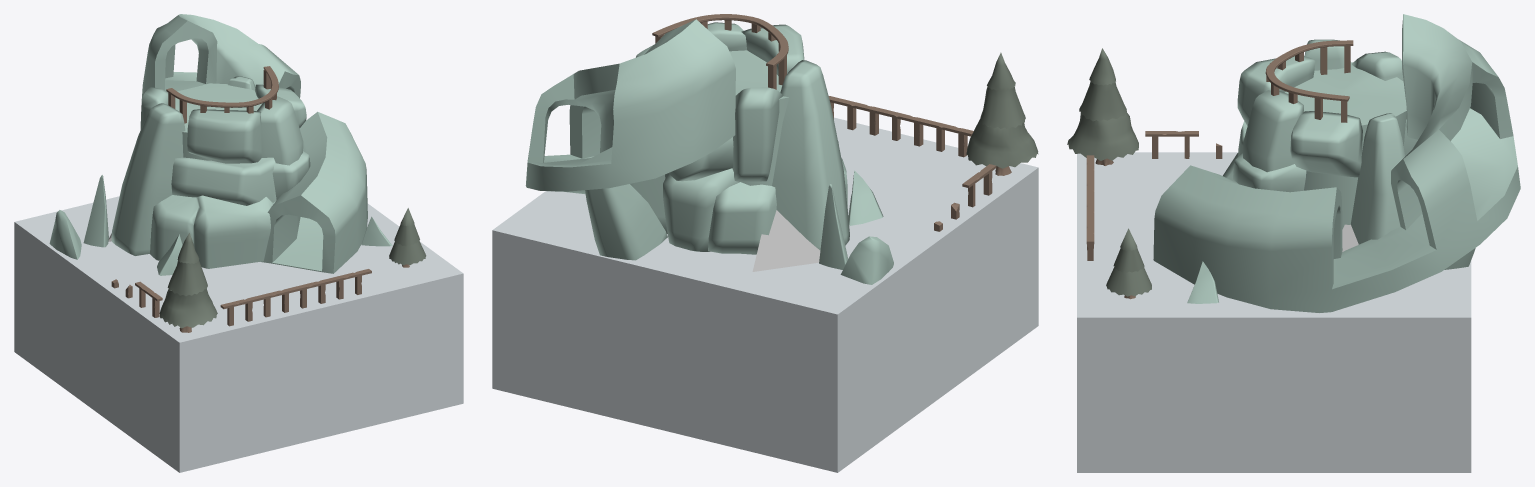
The model's file is Introduction Ice Level.fbx.
The picture shows the model from 3 angles, left to right: view 1: azimuth 30°, elevation 25°; view 2: azimuth 150°, elevation 25°; view 3: azimuth 270°, elevation 25°; orthographic projection. The views are drawn at different scales.
Parts seen in each view (by area): view 1: Base_Block, tunnel, polySurface4, pCube19, pCube16, pCube18, stump1, pCube17, Platform, leaves, pCone5, pCone8 (+7 smaller); view 2: Base_Block, tunnel, pCube19, stump1, pCube26, pCube20, pCube21, pCube23, pCone11, Platform, pCone8, pCube18 (+7 smaller); view 3: Base_Block, tunnel, Platform, pCube24, stump1, pCube25, pCube17, pCube18, leaves, pCube15, Top, pCube21 (+3 smaller).
Part boxes in pixels (x1,y1,x2,y2): Base_Block: [14, 196, 463, 472]; tunnel: [141, 14, 367, 273]; polySurface4: [150, 195, 275, 268]; pCube19: [111, 103, 185, 255]; pCube16: [171, 157, 276, 205]; pCube18: [187, 109, 261, 163]; stump1: [159, 233, 217, 328]; pCube17: [257, 96, 303, 165]; Platform: [175, 83, 262, 160]; leaves: [389, 208, 426, 265]; pCone5: [83, 175, 108, 247]; pCone8: [49, 210, 81, 259]; Base_Block: [492, 117, 1038, 472]; tunnel: [525, 19, 735, 194]; pCube19: [772, 60, 849, 250]; stump1: [966, 52, 1038, 168]; pCube26: [585, 184, 667, 260]; pCube20: [708, 182, 776, 254]; pCube21: [732, 87, 783, 181]; pCube23: [663, 168, 739, 251]; pCone11: [752, 210, 820, 271]; Platform: [665, 50, 789, 233]; pCone8: [840, 236, 893, 284]; pCube18: [741, 24, 804, 75]; Base_Block: [1077, 152, 1471, 472]; tunnel: [1153, 14, 1520, 312]; Platform: [1285, 62, 1406, 229]; pCube24: [1350, 113, 1405, 244]; stump1: [1067, 48, 1138, 160]; pCube25: [1290, 111, 1362, 177]; pCube17: [1243, 90, 1303, 172]; pCube18: [1237, 56, 1315, 125]; leaves: [1106, 228, 1151, 296]; pCube15: [1233, 153, 1306, 192]; Top: [1265, 40, 1353, 101]; pCube21: [1352, 51, 1403, 81].
Size of the model in its own units: 18.4 by 19.2 by 20.89.
